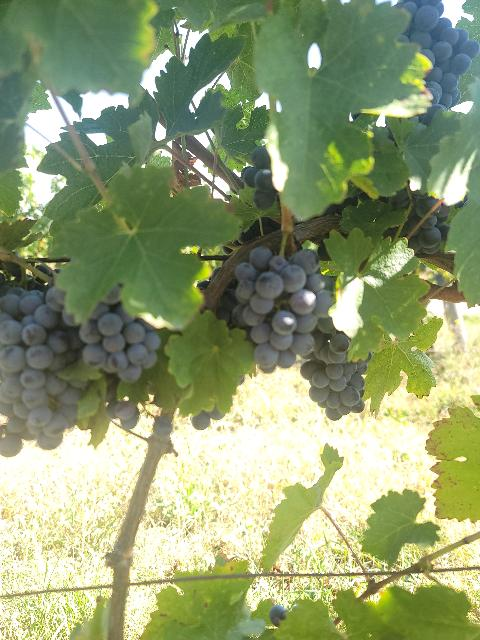grapes: (0, 288, 81, 458), (236, 248, 334, 371), (45, 285, 160, 381), (395, 0, 479, 125), (300, 318, 371, 420)
